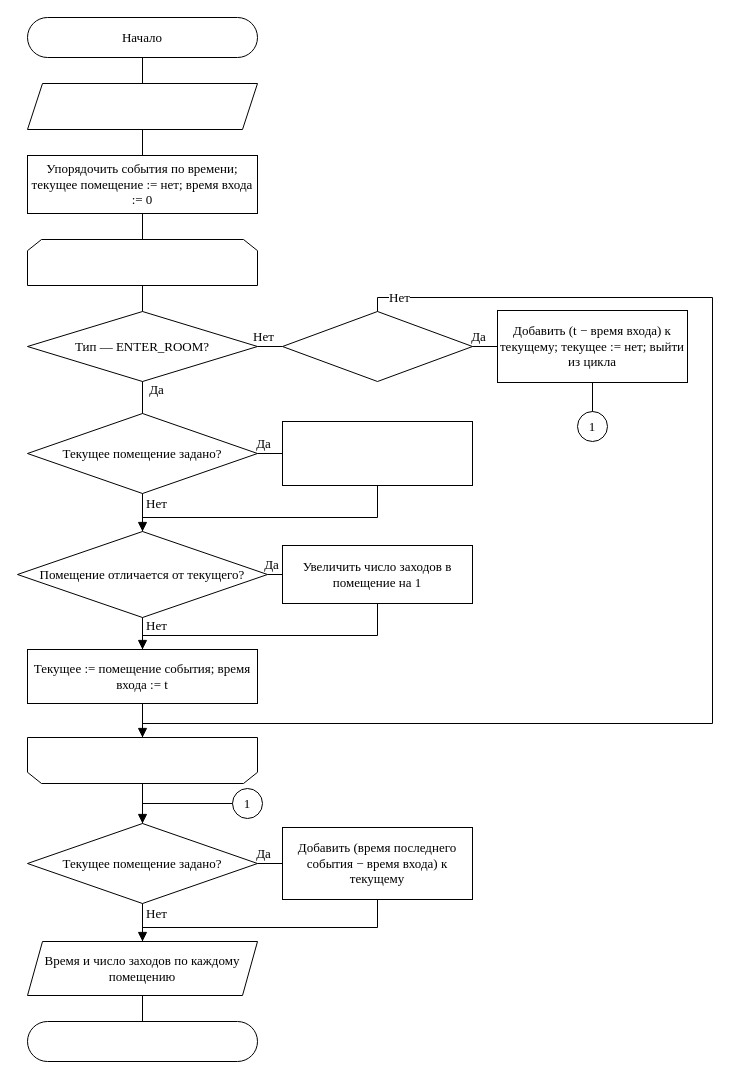
Some shapes in this 739 by 1079 pixel diagram are drawn without their labels. The centre of each missing label's shape, as x and y in pixels:
Для каждого события (время t): [142,262]
Добавить (t − время входа) ко времени текущего помещения: [377,453]
Конец: [142,1041]
Конец цикла: [142,760]
События одного сеанса: [142,106]
Тип — END?: [377,346]
